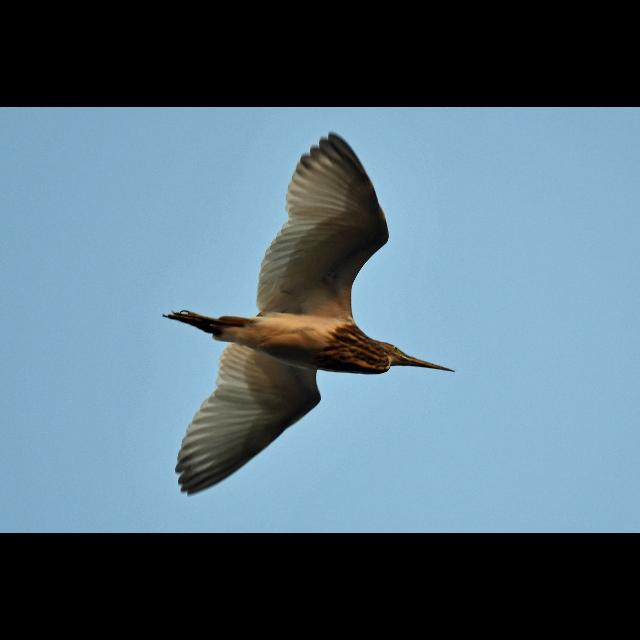heron: (150, 128, 472, 498)
